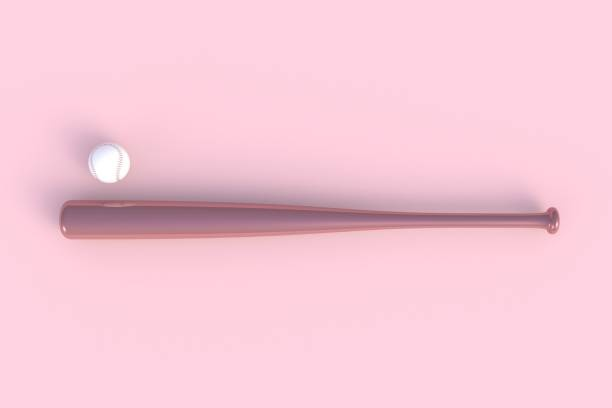bita: (56, 200, 553, 236)
